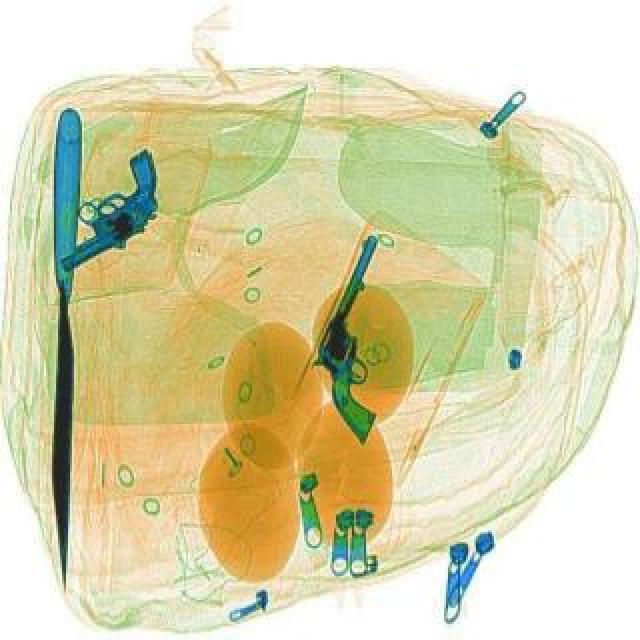gun: (280, 236, 452, 448), (26, 150, 190, 286)
knife: (38, 114, 82, 596)
